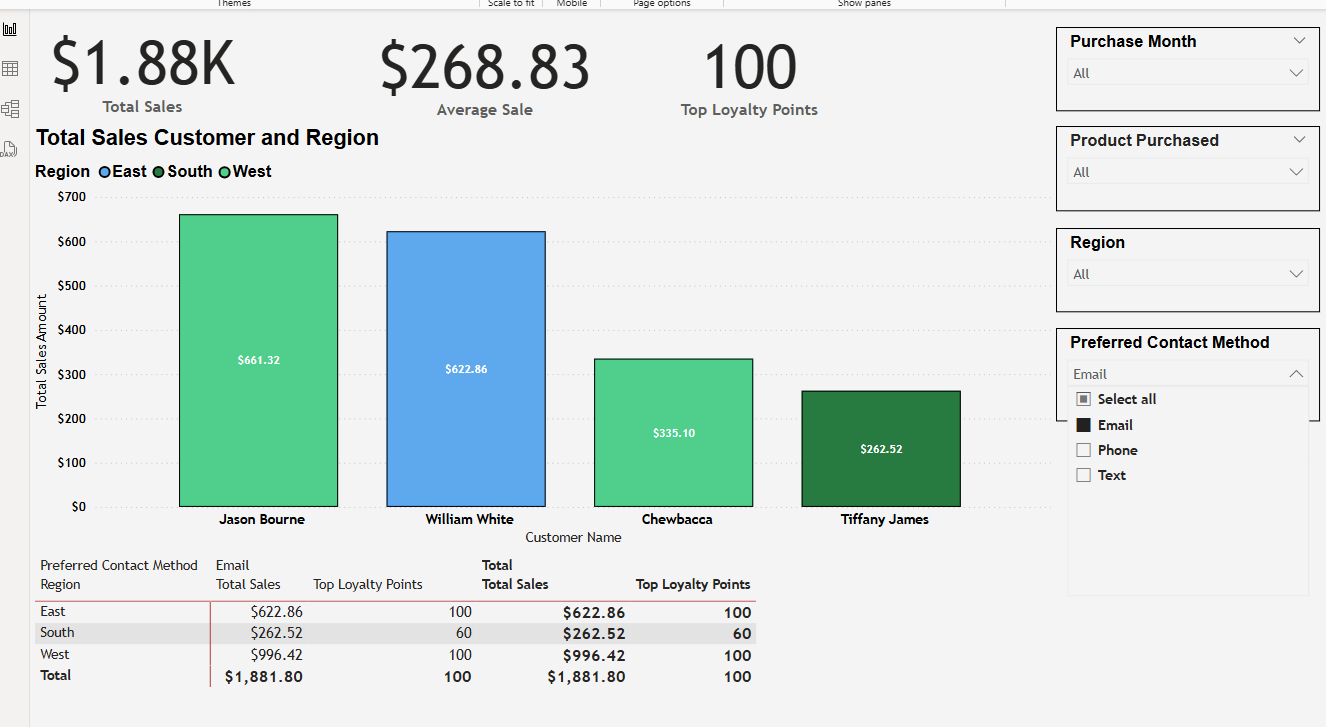

The page's visual inventory and layout, read from the dashboard file:
{"tool":"powerbi","page":{"name":"Total Sales By Customer and Region","canvas":[1280,720],"ordinal":0},"visuals":[{"type":"columnChart","title":"Total Sales Customer and Region","fields":{"Category":["customer.name"],"Y":["sale.Total Sales"],"Series":["customer.region"]},"box":[0,115.2,1010.2,418.5],"z":0},{"type":"slicer","fields":{"Values":["sale.Month"]},"box":[1010.2,17.7,259.9,82.7],"z":1000},{"type":"slicer","fields":{"Values":["customer.region"]},"box":[1010.2,215.6,259.9,82.7],"z":2000},{"type":"slicer","fields":{"Values":["customer.preferred_contact_method"]},"box":[1010.2,314.1,259.9,91.6],"z":3000},{"type":"card","fields":{"Values":["sale.Total Sales"]},"box":[0,0,221.5,115.2],"z":4000},{"type":"card","fields":{"Values":["sale.Average Sale"]},"box":[320,0,256,122.1],"z":5000},{"type":"card","fields":{"Values":["customer.Top Loyalty Points"]},"box":[594.7,0,227.4,122.1],"z":6000},{"type":"pivotTable","fields":{"Rows":["customer.region"],"Columns":["customer.preferred_contact_method"],"Values":["sale.Total Sales","customer.Top Loyalty Points"]},"box":[0,533.7,1280,187.1],"z":7000},{"type":"slicer","fields":{"Values":["product.product_name"]},"box":[1010.2,115.2,259.9,83.7],"z":8000}]}

Visuals, with their boxes on the page's 1280x720 design canvas (x1, y1, x2, y2). These are canvas units, not pixel positions in the 1326x727 screenshot, which may show the page scaled, cropped or inside an application window:
"Total Sales Customer and Region" columnChart: <box>0,115,1010,534</box>
slicer - sale.Month: <box>1010,18,1270,100</box>
slicer - customer.region: <box>1010,216,1270,298</box>
slicer - customer.preferred_contact_method: <box>1010,314,1270,406</box>
card - sale.Total Sales: <box>0,0,222,115</box>
card - sale.Average Sale: <box>320,0,576,122</box>
card - customer.Top Loyalty Points: <box>595,0,822,122</box>
pivotTable - customer.region x customer.preferred_contact_method: <box>0,534,1280,721</box>
slicer - product.product_name: <box>1010,115,1270,199</box>
